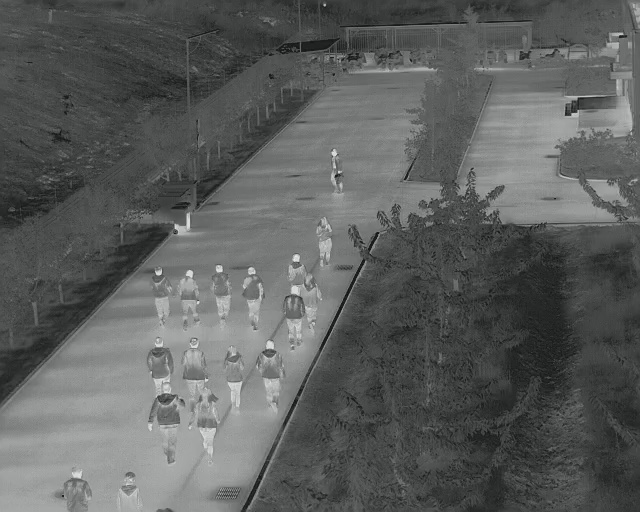person: (153, 384, 181, 465), (192, 389, 220, 461), (257, 341, 285, 411), (241, 266, 264, 331), (182, 338, 208, 392), (178, 270, 201, 330), (285, 286, 306, 349), (65, 467, 93, 512), (146, 338, 173, 384), (151, 267, 172, 325), (212, 265, 231, 328), (225, 346, 244, 409), (116, 471, 143, 512), (303, 274, 319, 329), (317, 216, 331, 269), (329, 149, 344, 193)
